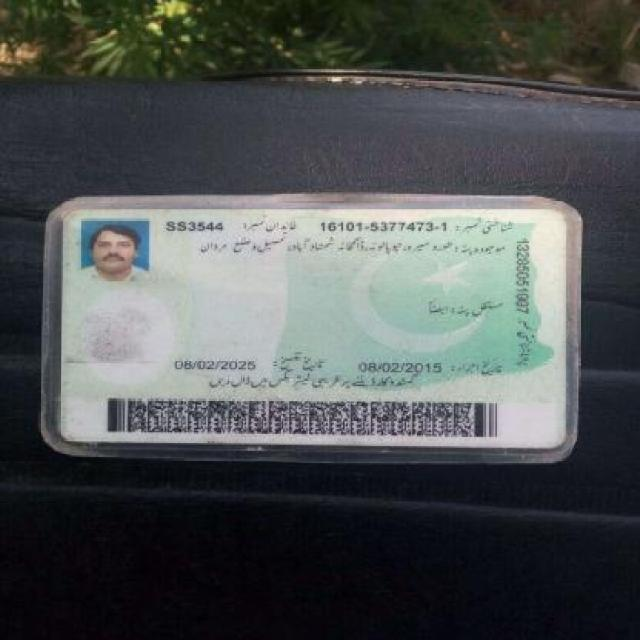Back: (52, 203, 572, 455)
